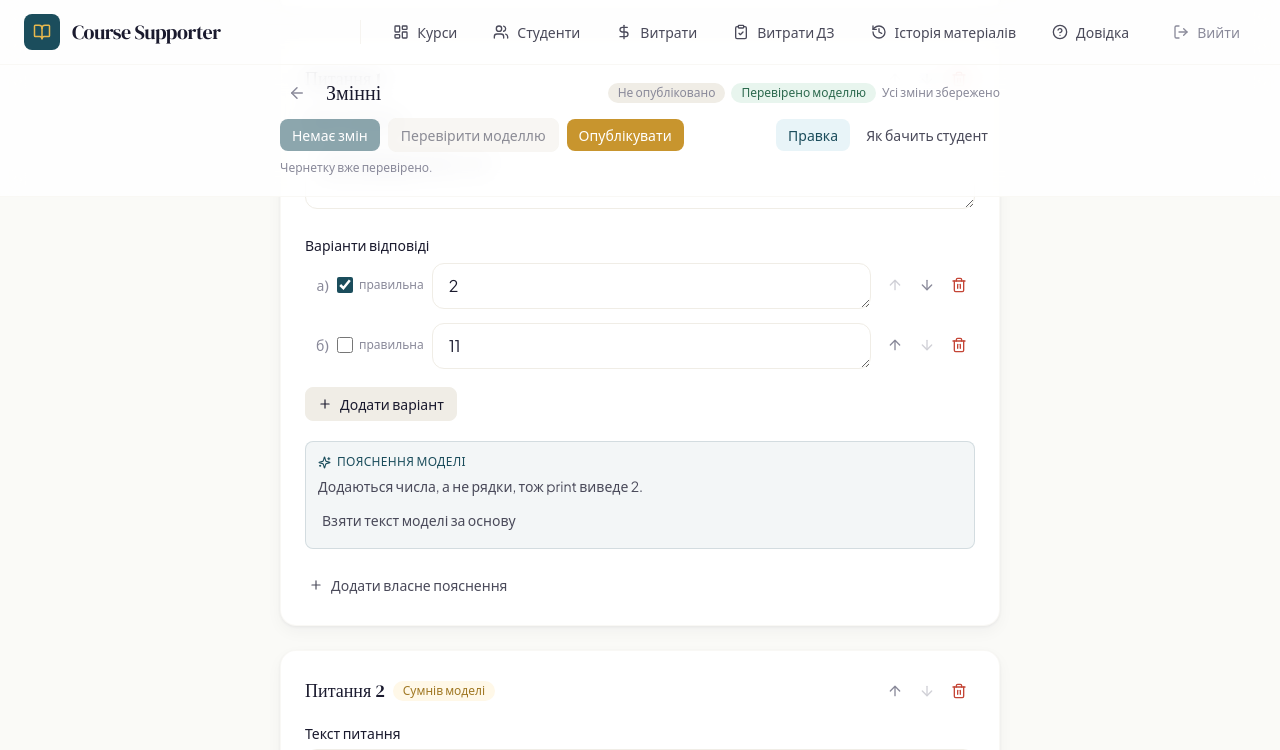
Test: TestEditorPage › copies the model's explanation into the author's own for editing, leaving the model's as it was
(page scrolled)
Expected: the element "Питання 1" is shown, top-left (280, 38), bottom-right (1000, 626)
Click the button "Взяти текст моделі за основу".
click(419, 520)  # box top-left (310, 504), bottom-right (528, 536)
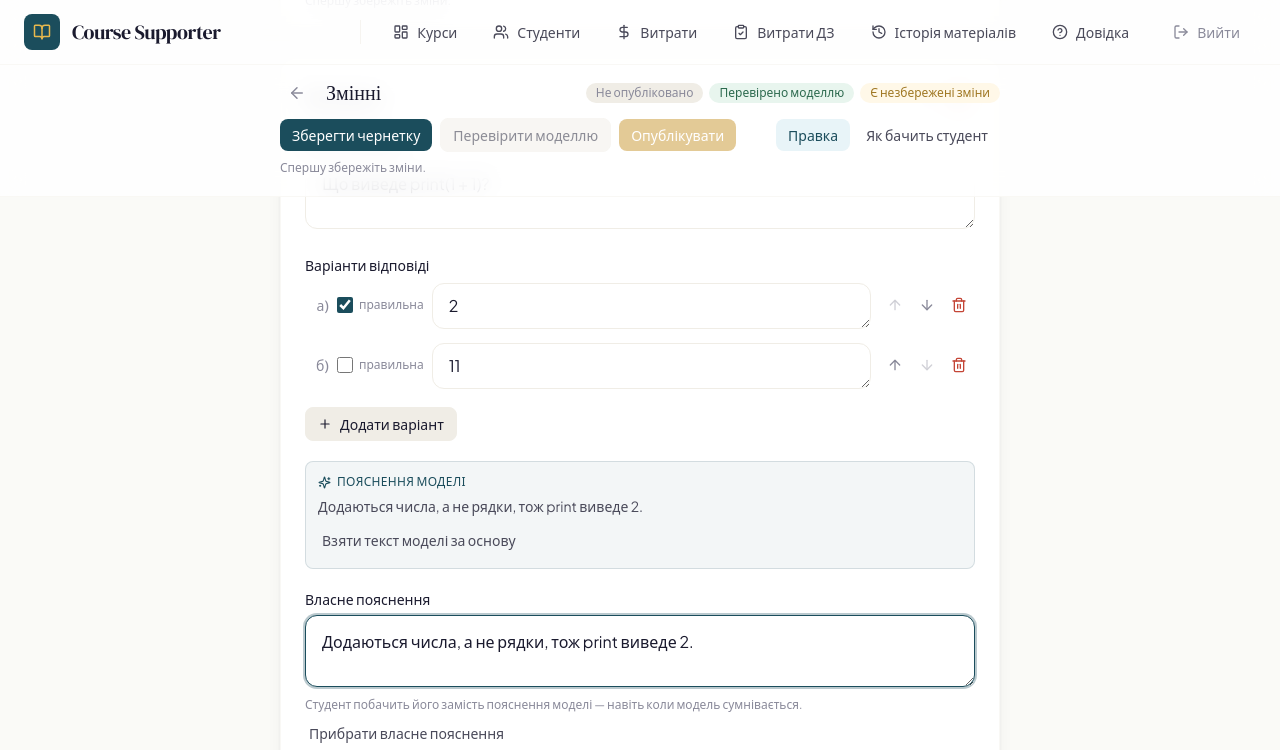
Expected: the text box labelled "Власне пояснення" holds "Додаються числа, а не рядки, тож print виведе 2."
Replace the text in the text box labelled "Власне пояснення" with "Python додає числа: 1 + 1 = 2." at (640, 651), box top-left (305, 615), bottom-right (975, 687)
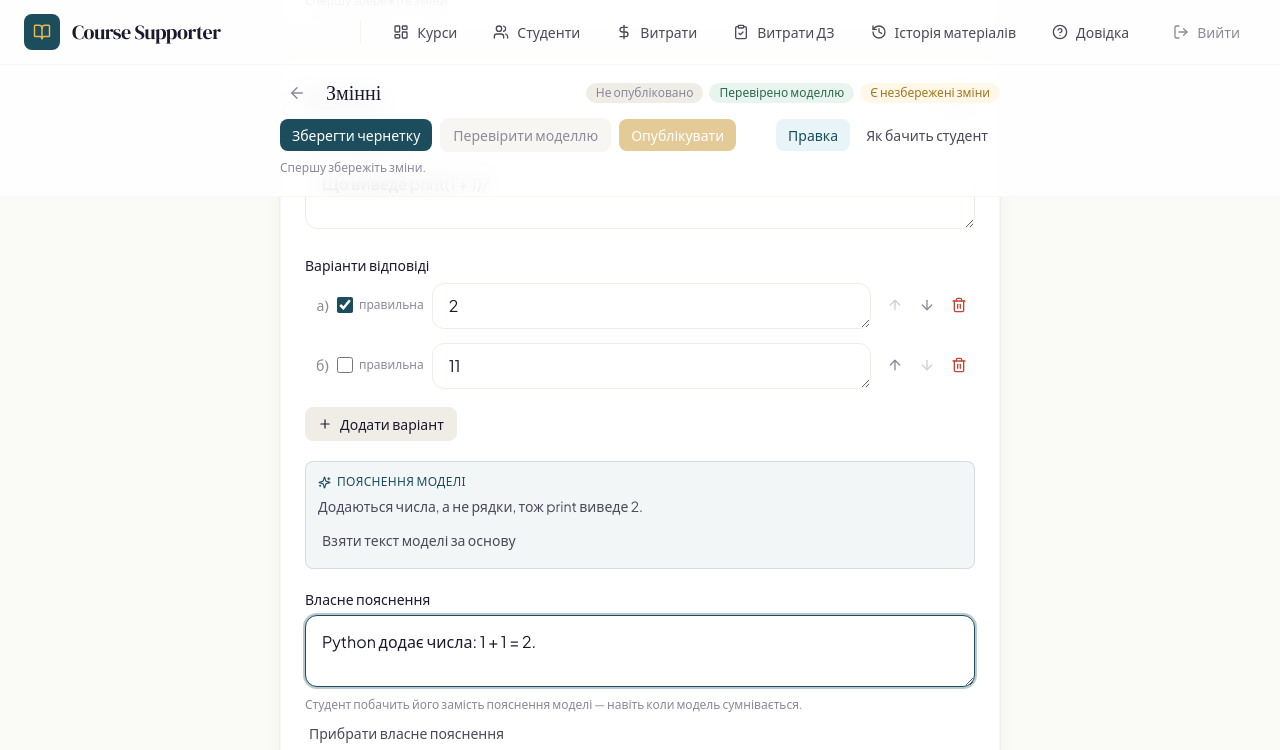
Expected: the text with test id "model-explanation" reads "Додаються числа, а не рядки, тож print виведе 2.", top-left (318, 497), bottom-right (643, 515)
Over the author's own words the page asks first.
Click the button "Взяти текст моделі за основу".
click(419, 540)  # box top-left (310, 524), bottom-right (528, 556)
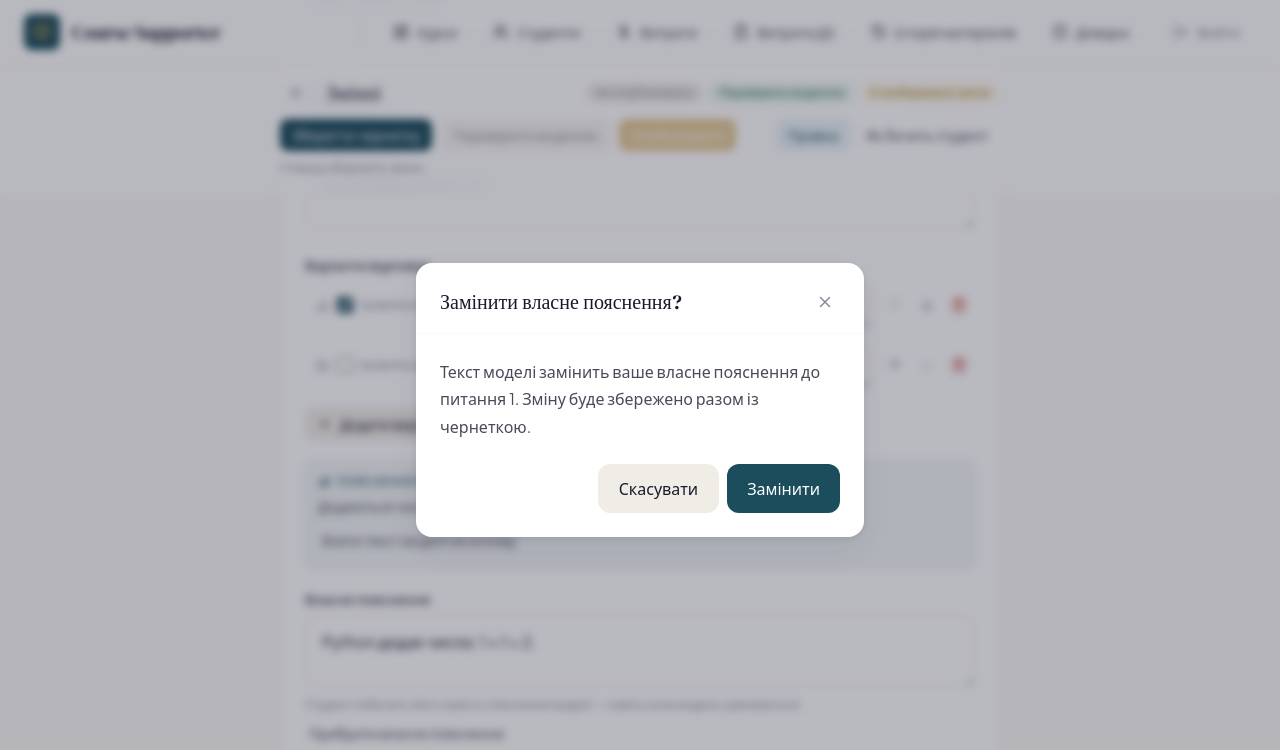
Click the button "Замінити".
click(784, 488)  # box top-left (727, 464), bottom-right (840, 513)
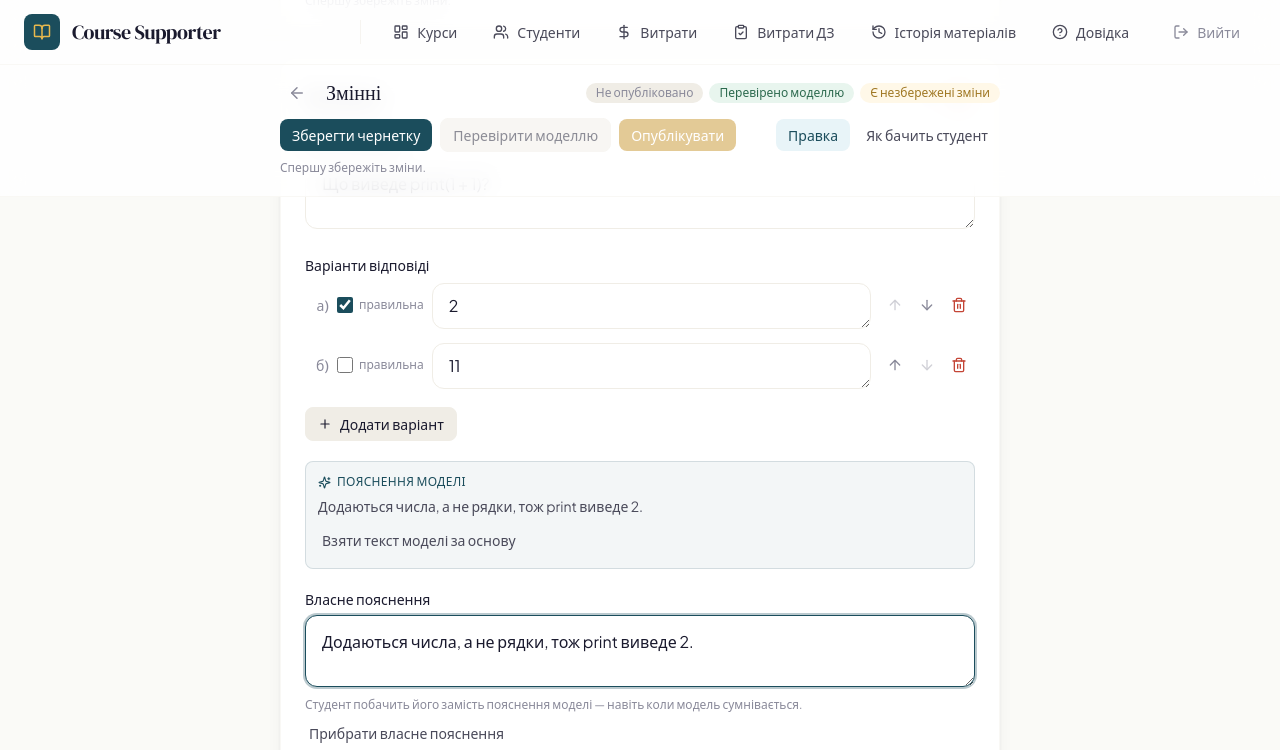
Expected: the text with test id "model-explanation" reads "Додаються числа, а не рядки, тож print виведе 2.", top-left (318, 497), bottom-right (643, 515)
Expected: the text box labelled "Власне пояснення" holds "Додаються числа, а не рядки, тож print виведе 2.", top-left (305, 615), bottom-right (975, 687)
